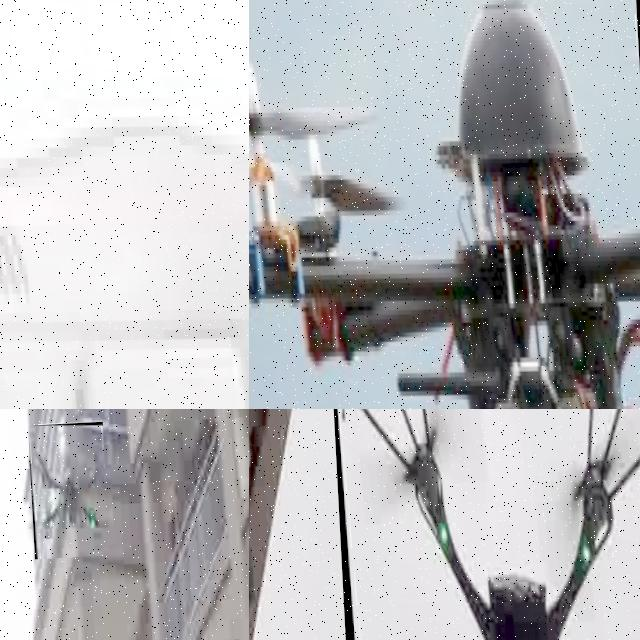0: (323, 409, 640, 640), (28, 422, 110, 560)
drone: (249, 0, 640, 409), (0, 0, 249, 409)
